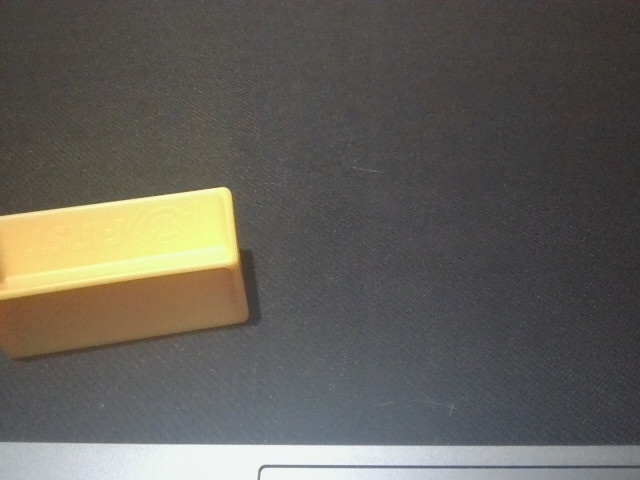YellowSample: (1, 181, 256, 361)
